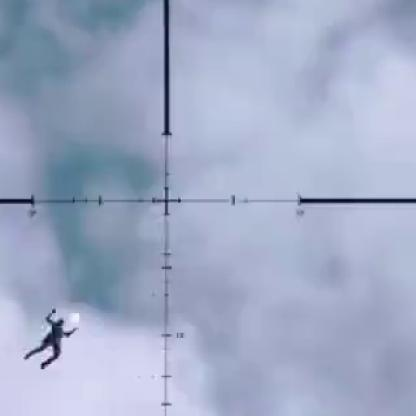enemy: (28, 308, 76, 371)
